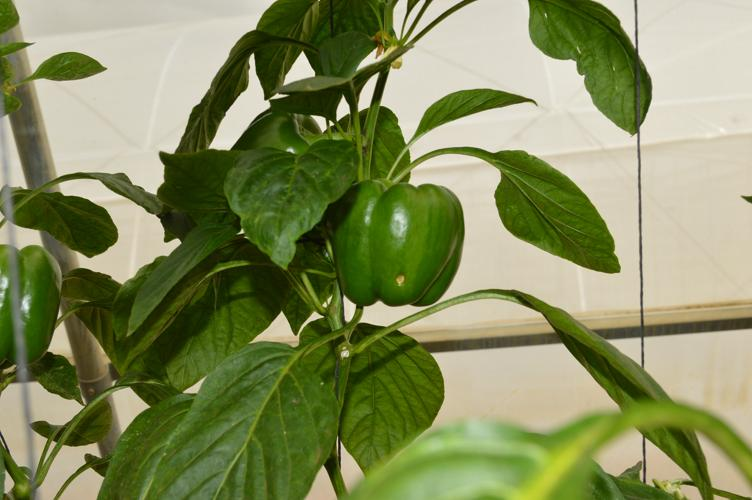BellPepper: (326, 179, 465, 310), (1, 245, 63, 360)
